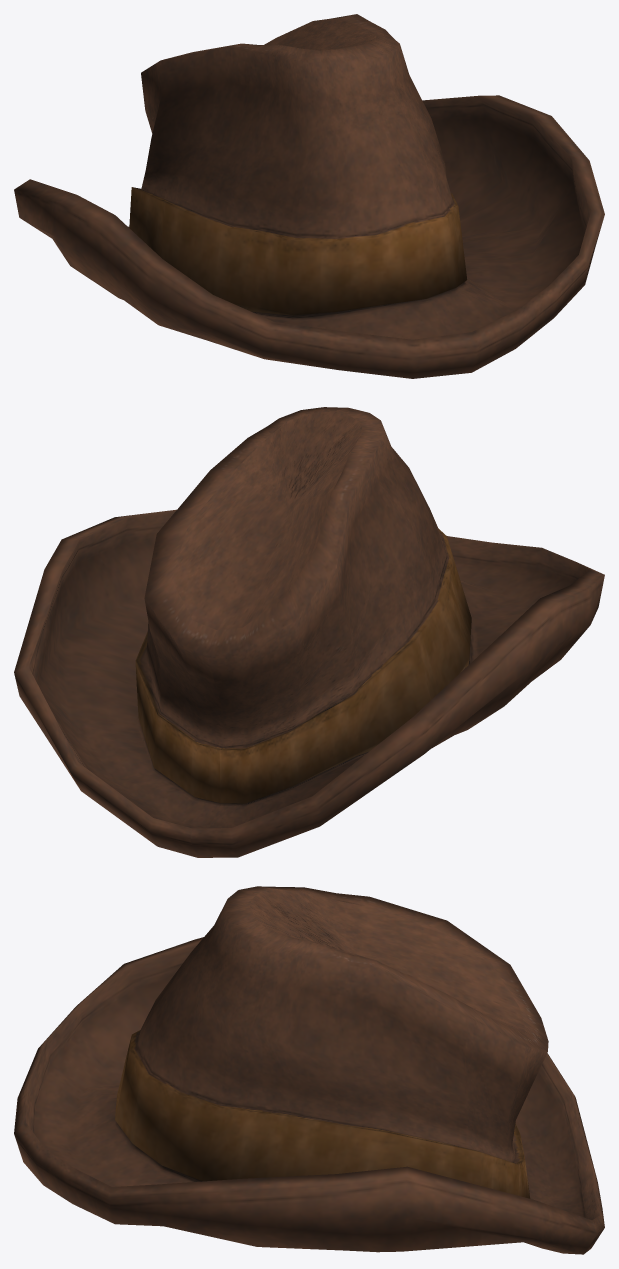
Rendered from Cowboy_Hat.fbx.
The picture shows the model from 3 angles, top to bottom: view 1: azimuth 30°, elevation 25°; view 2: azimuth 150°, elevation 25°; view 3: azimuth 270°, elevation 25°; orthographic projection. The views are drawn at different scales.
Parts seen in each view (by area): view 1: CowboyHat; view 2: CowboyHat; view 3: CowboyHat.
Boxes of the visible parts, x1=… form: CowboyHat: x1=14, y1=14, x2=604, y2=378; CowboyHat: x1=14, y1=407, x2=604, y2=857; CowboyHat: x1=14, y1=886, x2=604, y2=1254.
Bounding box in the file's own units: 31 × 20.11 × 31.91.
1 material, 1 textured.
